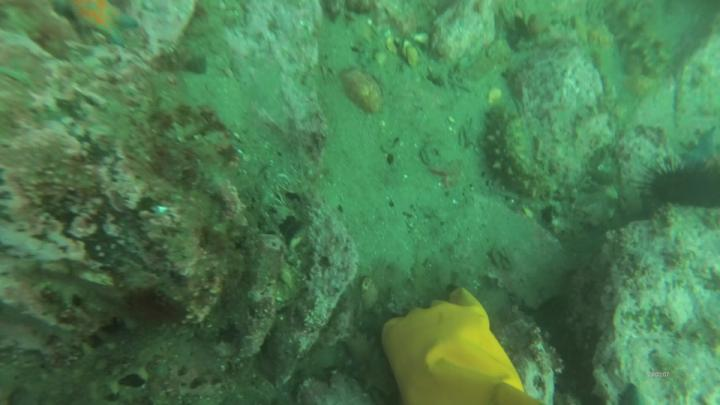echinus: (652, 167, 720, 210)
holothurian: (489, 114, 556, 200), (608, 4, 669, 66)
starfish: (64, 2, 137, 44)
